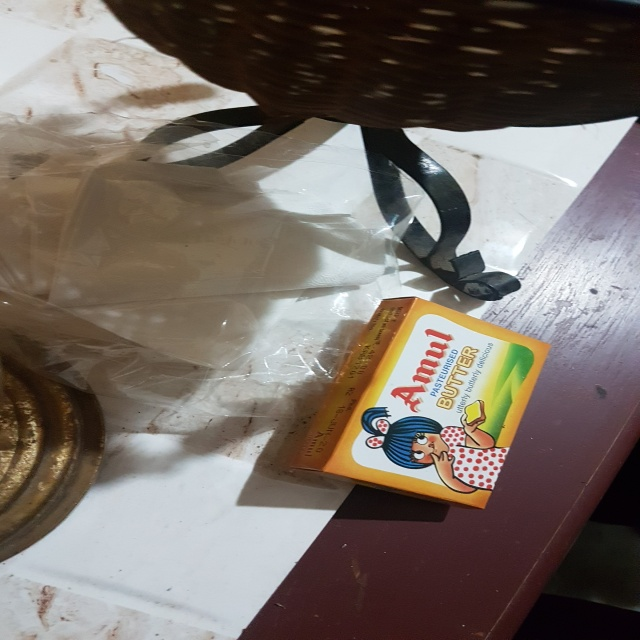butter: (300, 294, 549, 512)
